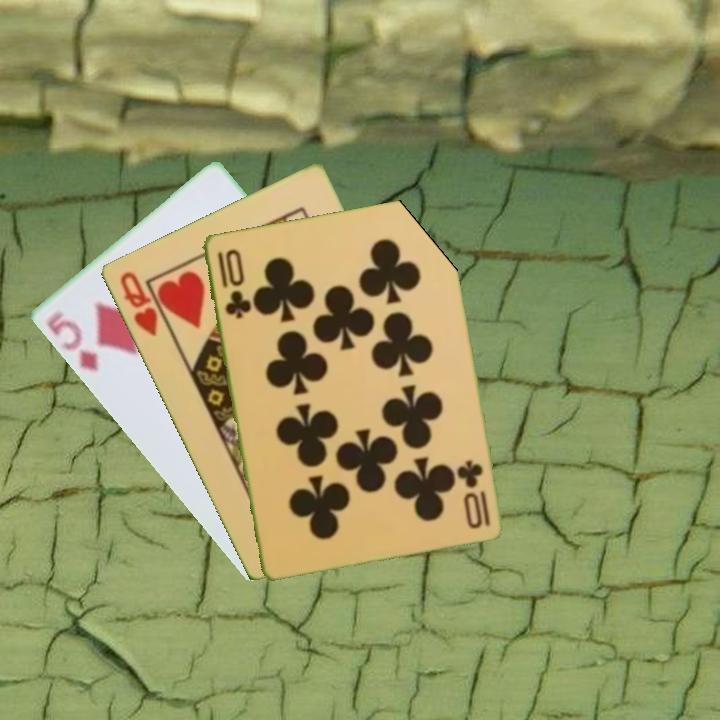10c: (213, 245, 252, 321), (454, 456, 493, 530)
5d: (42, 307, 101, 375)
Qh: (115, 267, 160, 339)
